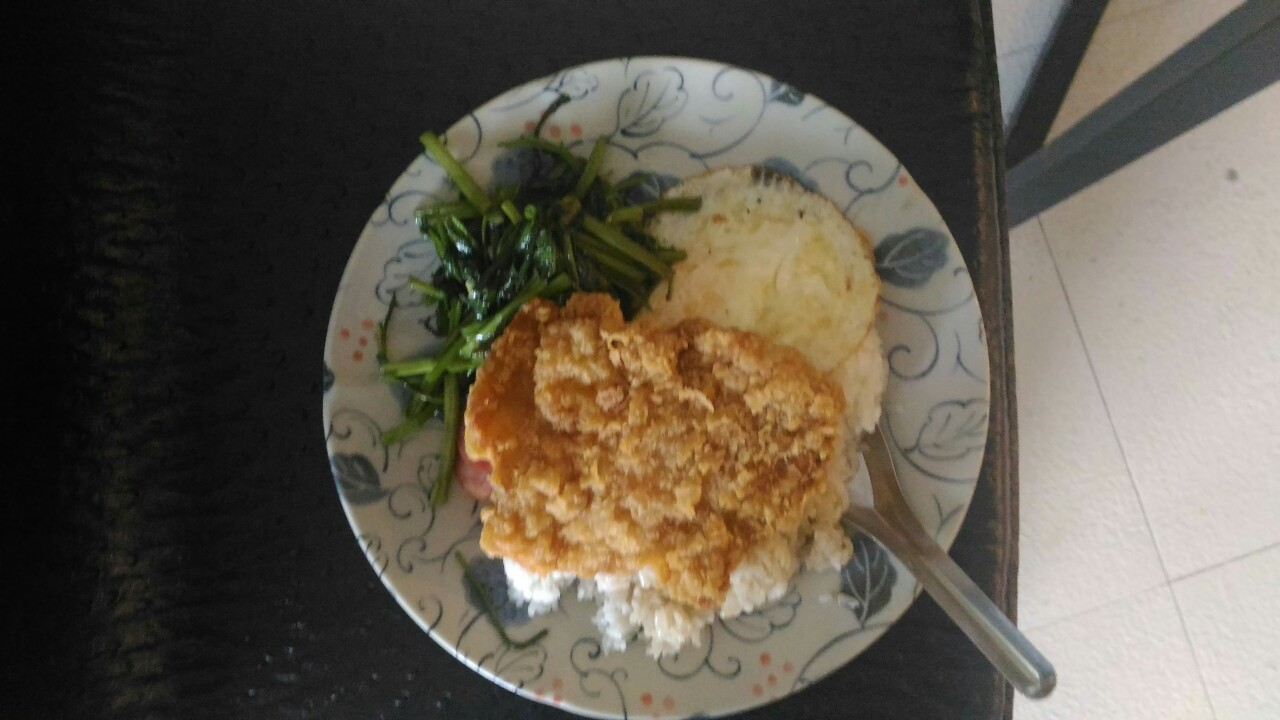fried_chicken: (446, 293, 852, 605)
fried_eggs: (624, 160, 883, 373)
water_spinach: (411, 122, 646, 323)
